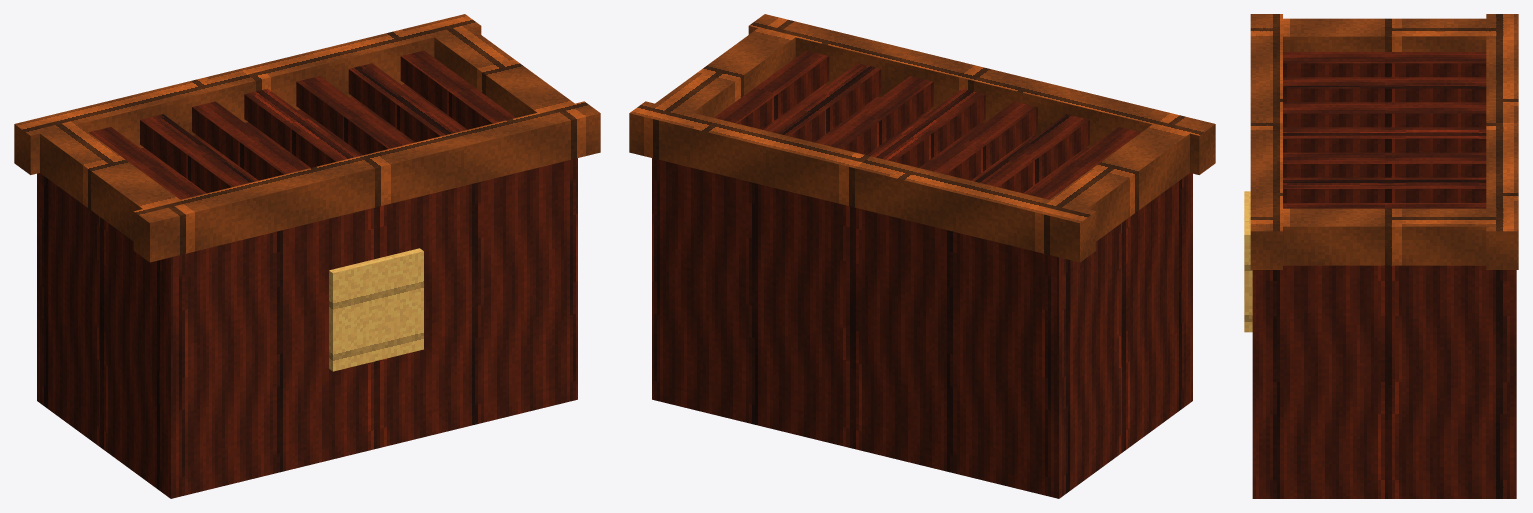
File: offering_box.glb
The picture shows the model from 3 angles, left to right: view 1: azimuth 30°, elevation 25°; view 2: azimuth 150°, elevation 25°; view 3: azimuth 270°, elevation 25°; orthographic projection.
Visible parts, largest first — view 1: offering_box; view 2: offering_box; view 3: offering_box.
Boxes of the visible parts, box(x1,y1,x2,y2) form: offering_box: box(14, 14, 600, 498); offering_box: box(629, 14, 1215, 498); offering_box: box(1244, 14, 1518, 498).
Size of the model in its own units: 1.44 by 0.86 by 0.7675.
3 materials, 3 textured.
